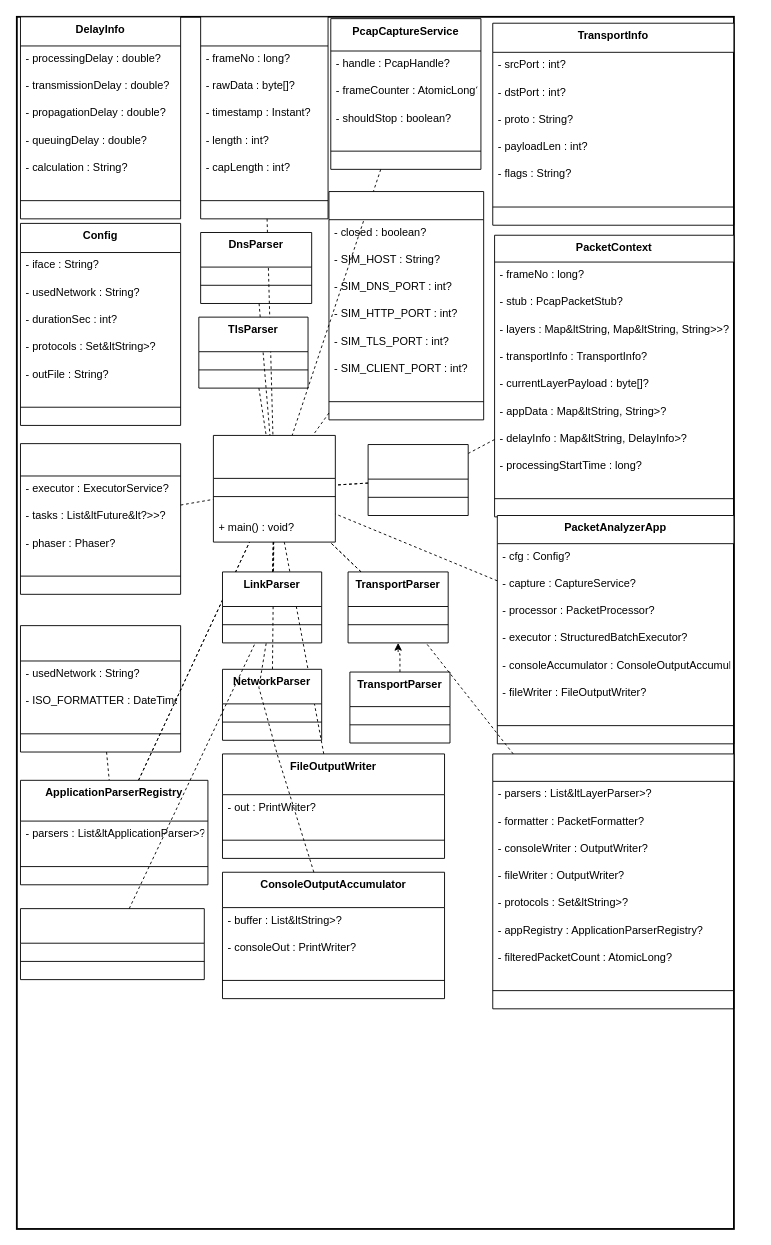
The diagram is 771 pixels wide and 1245 high, and some of its shapes have lost their labels. Each missing label, with the box of its shape:
FrameParser: (20, 625, 181, 752)
HttpParser: (367, 444, 468, 516)
PacketAnalyzer: (212, 435, 335, 542)
PacketProcessor: (492, 753, 734, 1009)
PcapPacketStub: (200, 16, 328, 219)
SimulatedCaptureService: (328, 191, 484, 420)
StructuredBatchExecutor: (20, 443, 181, 594)
TabRowPacketFormatter: (20, 908, 204, 980)
